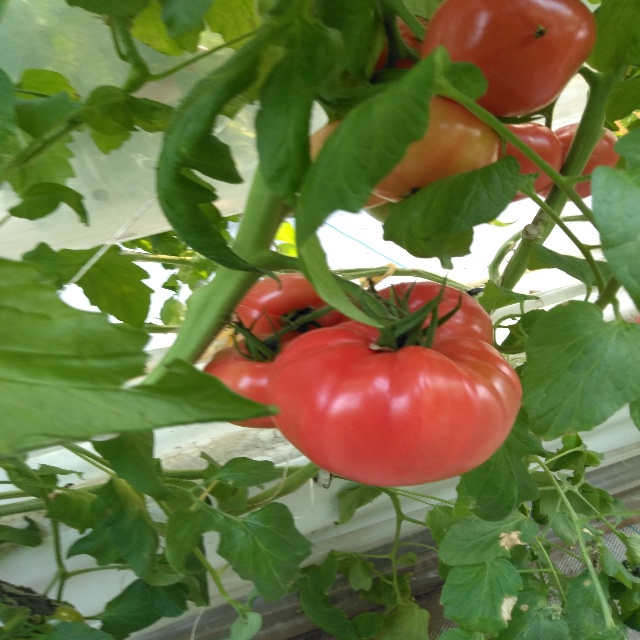b_fully_ripened: (268, 319, 523, 487), (421, 0, 597, 118), (201, 334, 301, 428), (372, 281, 493, 346), (233, 273, 346, 337), (536, 122, 619, 202), (495, 121, 563, 202)
